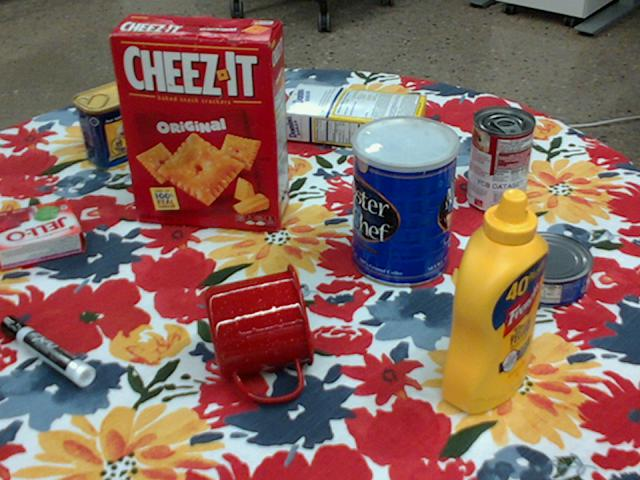cracker_box: (110, 13, 290, 226)
gelatin_box: (0, 199, 85, 271)
large_marker: (0, 314, 94, 386)
master_chef_can: (352, 116, 459, 288)
mug: (203, 264, 316, 403)
mustard_bottle: (442, 188, 547, 414)
potted_meat_can: (72, 75, 162, 169)
sugar_box: (278, 82, 427, 155)
tomato_soup_can: (467, 106, 535, 214)
tuna_fish_can: (502, 233, 593, 309)
